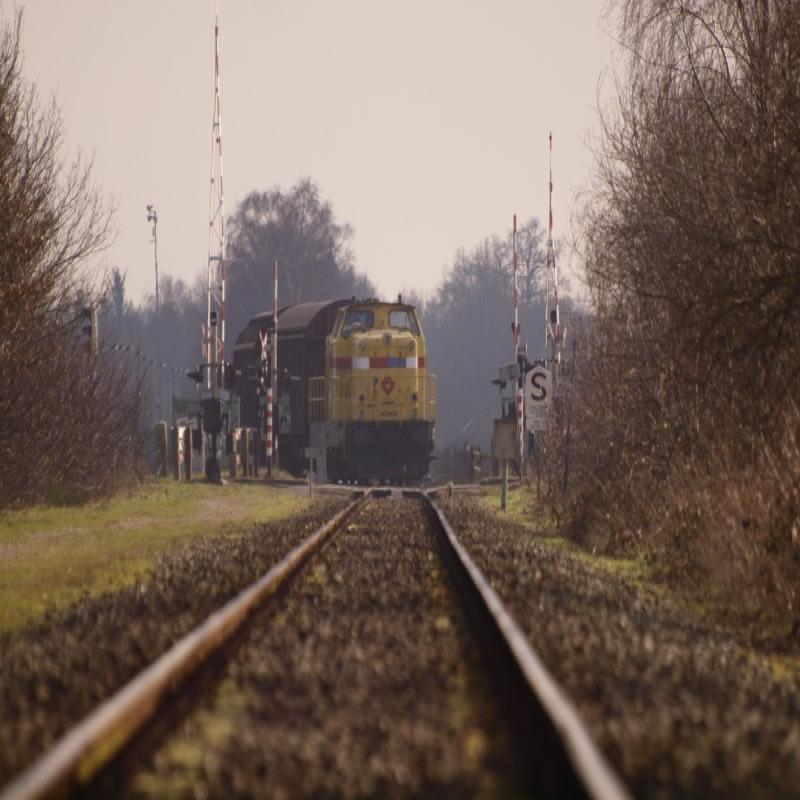train: (282, 294, 442, 494)
